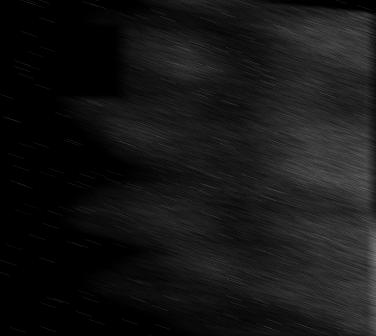Airbag: (0, 0, 376, 336), (22, 335, 376, 336)
